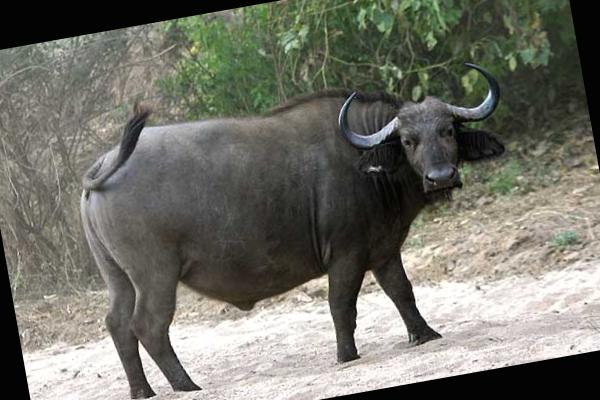Buffalo: (42, 16, 553, 400)
